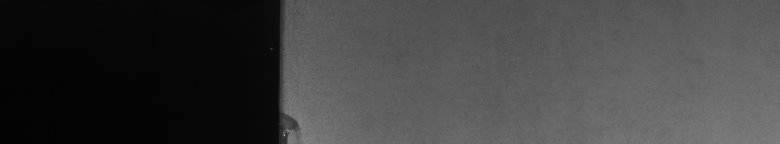hb: (288, 108, 305, 136)
